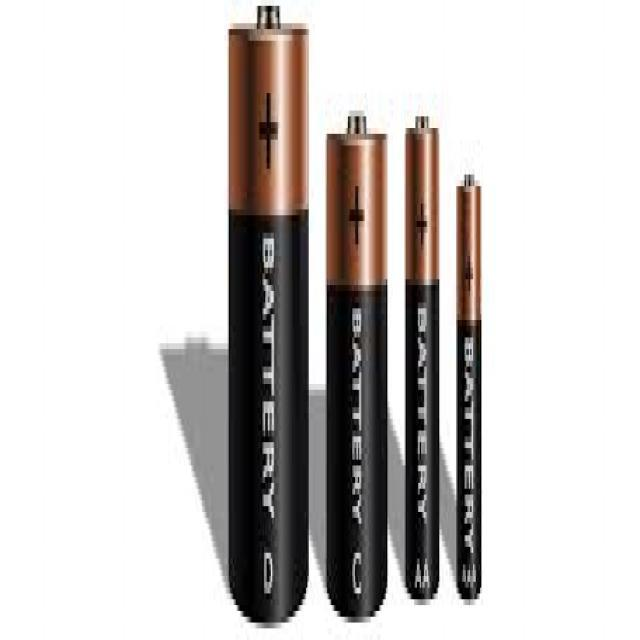battery: (228, 6, 310, 629), (326, 113, 387, 626), (406, 113, 439, 603), (456, 174, 481, 594)
